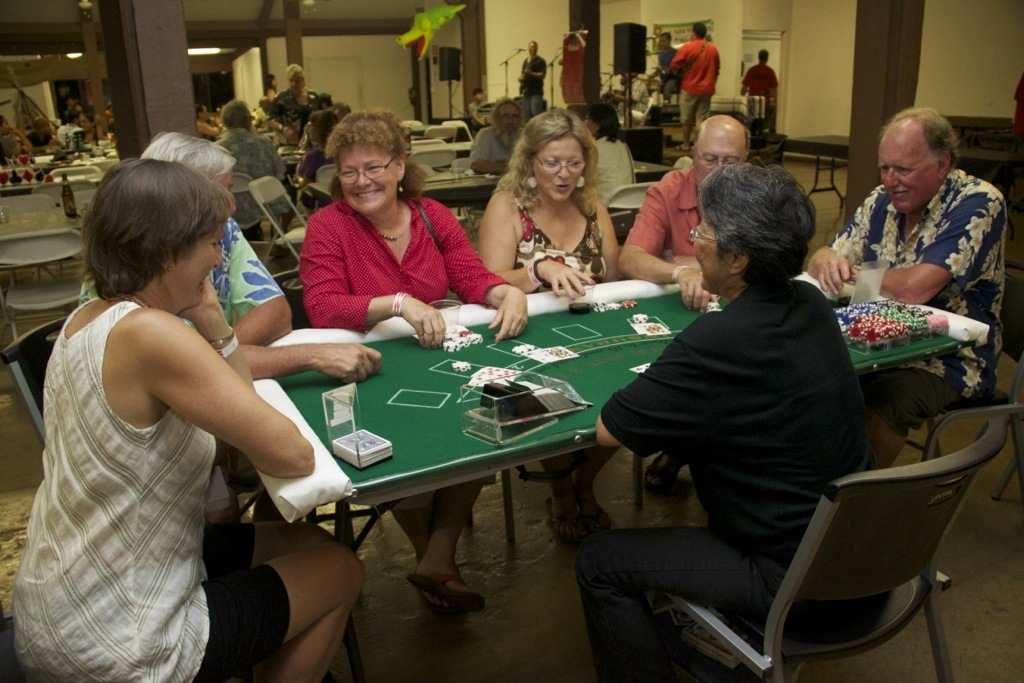Chair: (620, 407, 991, 678), (0, 314, 69, 450), (241, 172, 301, 281), (589, 179, 650, 209)
